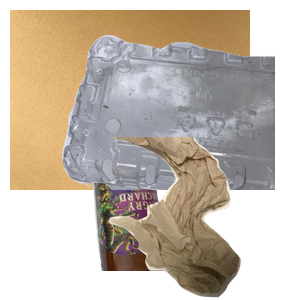cardboard: (10, 10, 250, 190)
glass: (88, 120, 252, 300)
plastic: (60, 32, 300, 212)
trash: (103, 137, 300, 300)
